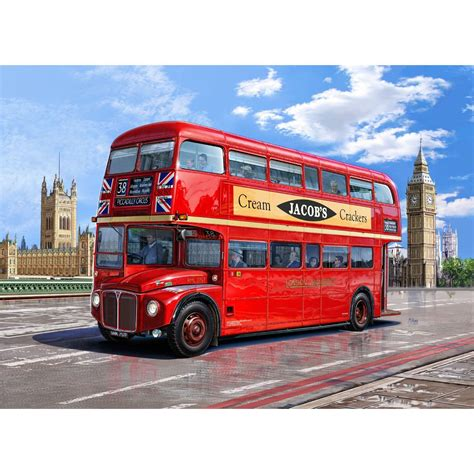bus: (90, 123, 401, 355)
